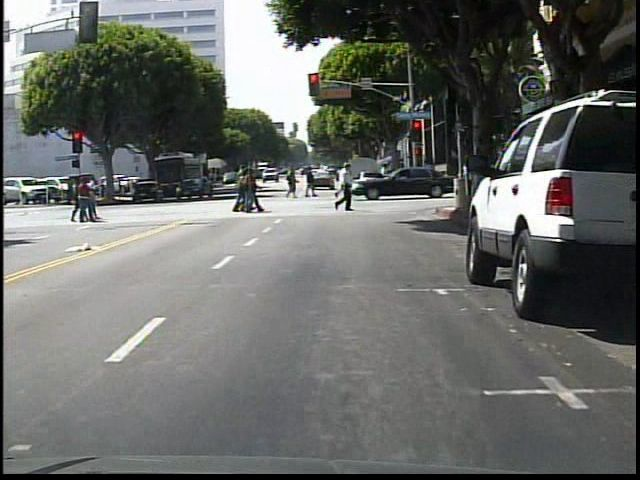person: (332, 160, 358, 217)
